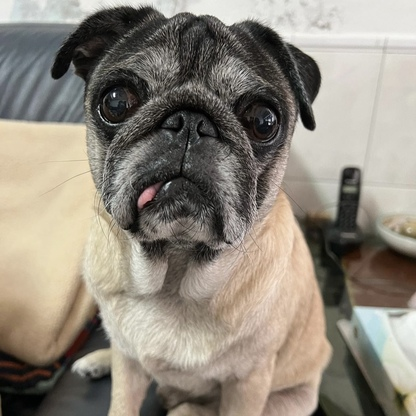Pug: (46, 1, 340, 416)
